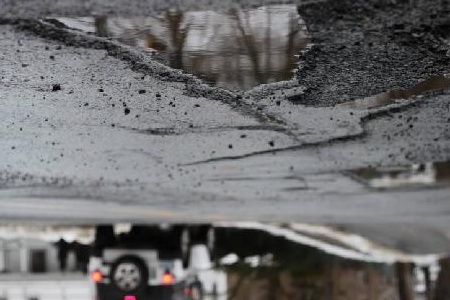pothole: (26, 2, 317, 105), (256, 71, 450, 150), (338, 158, 449, 194)
